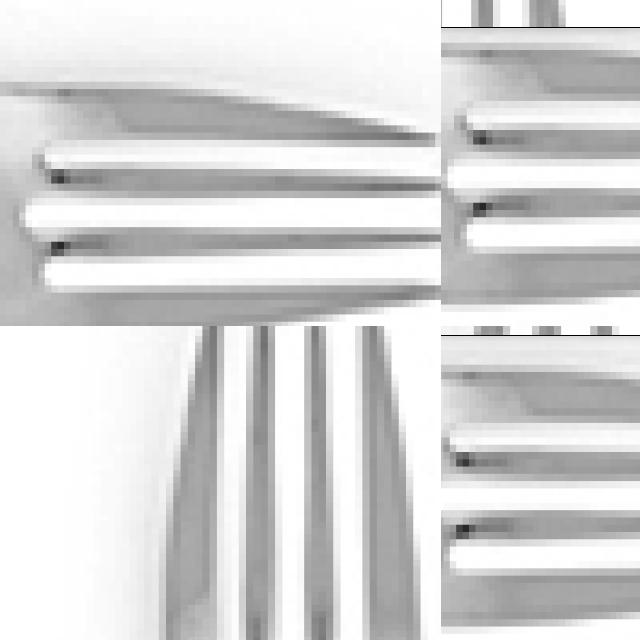forks: (441, 326, 640, 640)
spoons: (0, 0, 441, 326), (441, 19, 640, 326)
